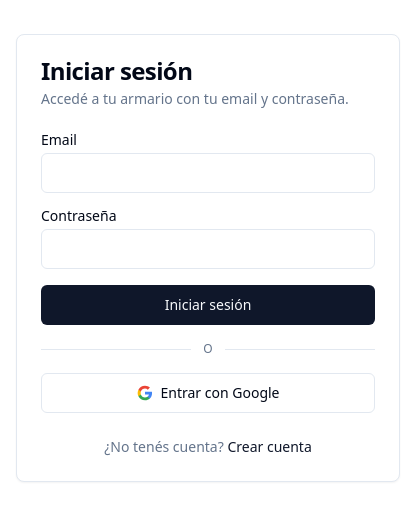
Scenario: LoginPage › con credenciales inválidas (401) muestra error y NO navega
The width and height of the screenshot is (417, 517).
Type "a@b.com" into the field labelled "Email" at (208, 173), box [41,153,375,193]
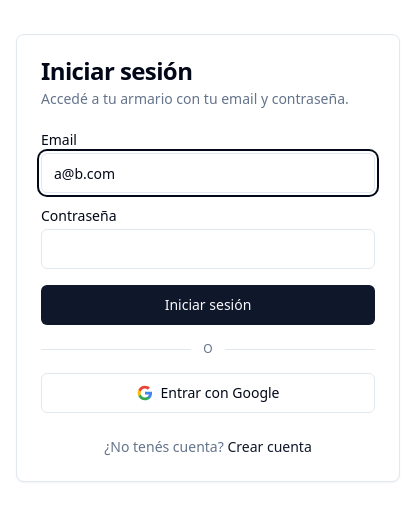
Type "wrongpass" into the password field labelled "Contraseña" at (208, 249), box [41,229,375,269]
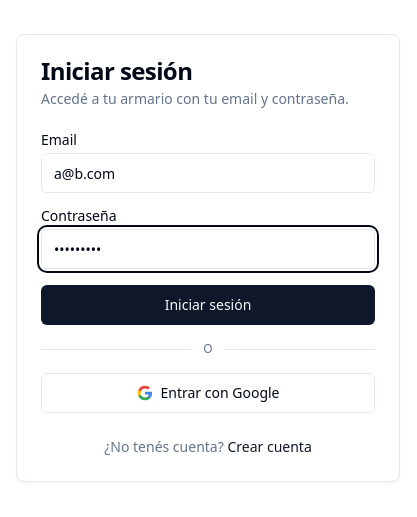
Click the button "Iniciar sesión" at (208, 305), box [41,285,375,325]
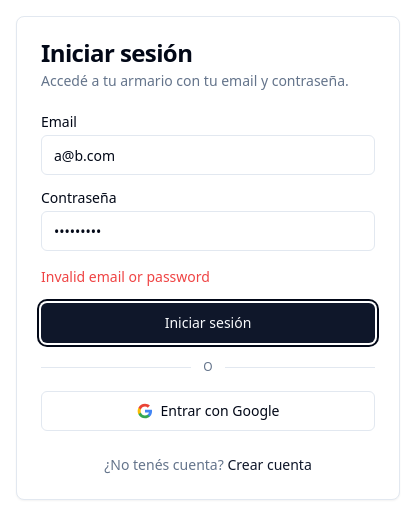
Now the text "Invalid email or password" is shown, box [41,267,210,286]
